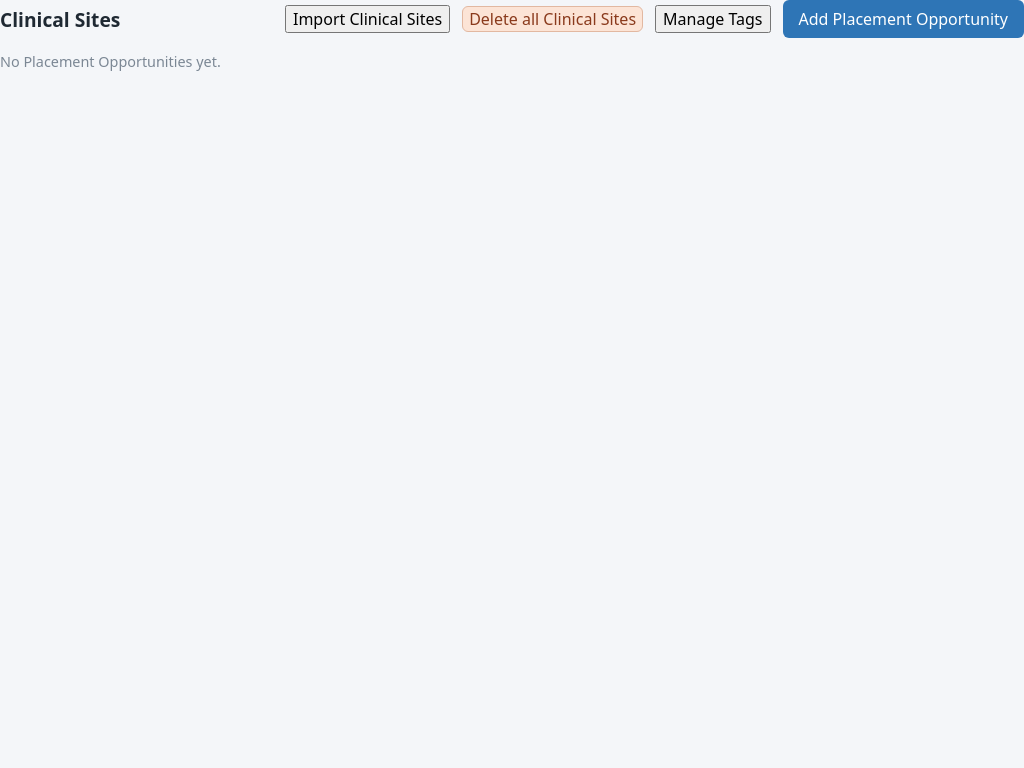
Clinical Sites import dialog › shows row-level validation messages and blocks import
This screenshot has width=1024, height=768.
Click the button "Import Clinical Sites". click: (368, 19)
box: [285,5,450,33]
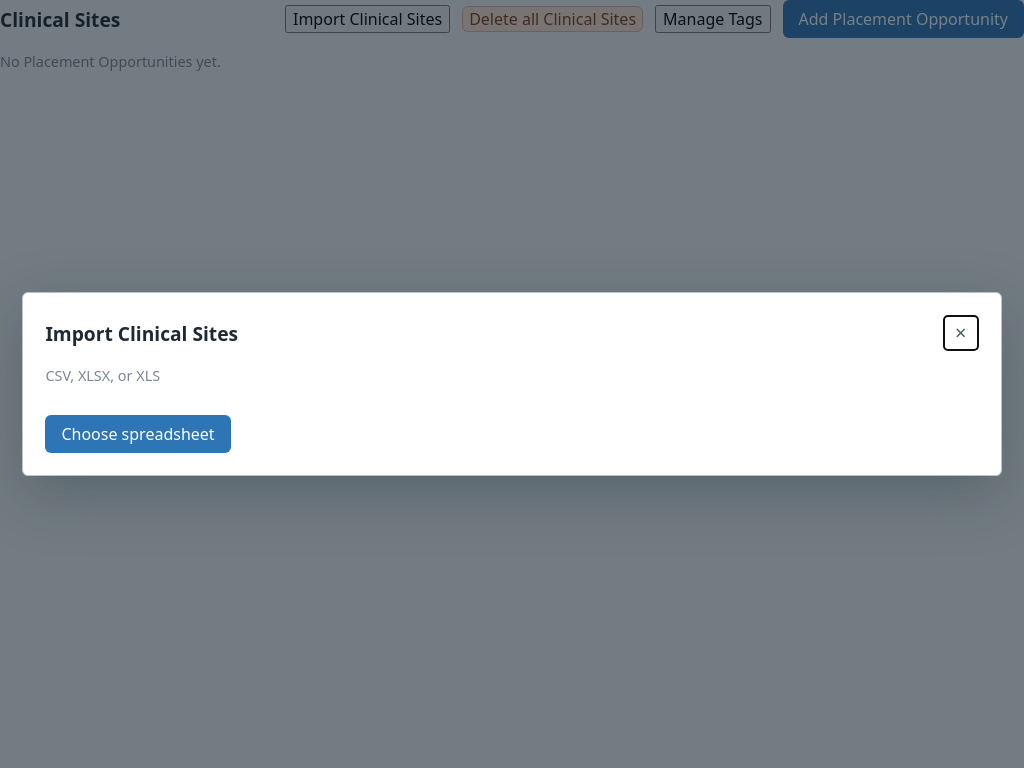
Click the button "Choose spreadsheet". click: (138, 434)
box: [45,415,231,453]
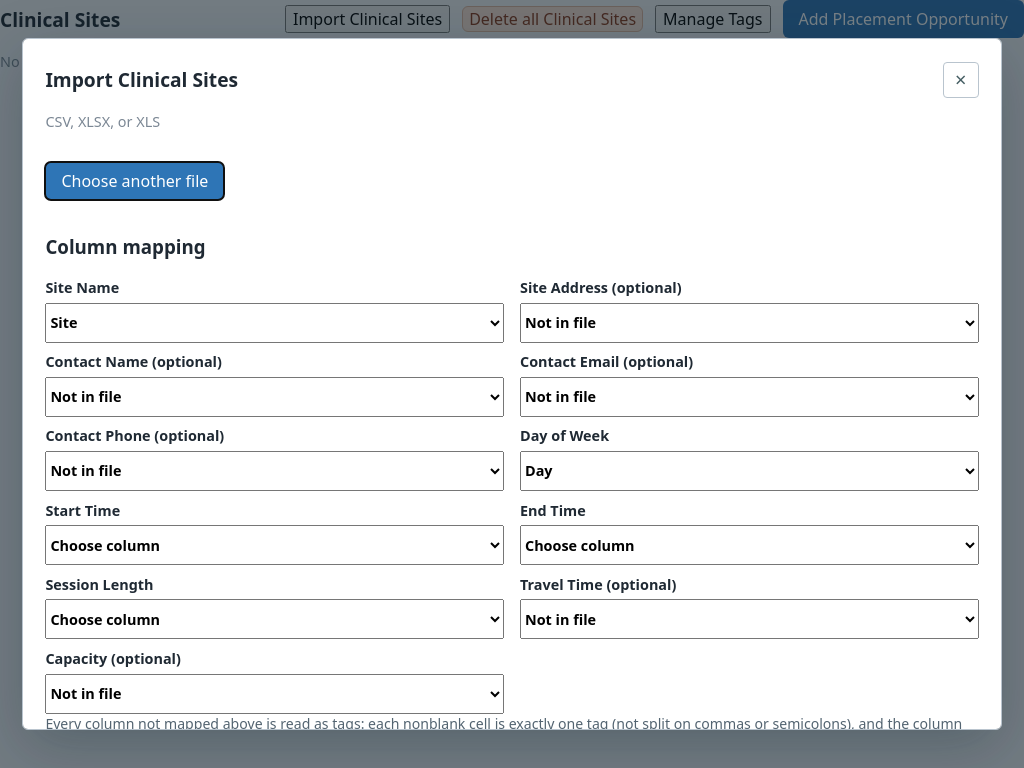
Check: the heading "Column mapping" is shown, box [45,234,206,259]
Select "Begin" in the dropdown labelled "Start Time". click: (275, 545)
box: [45,525,504,565]
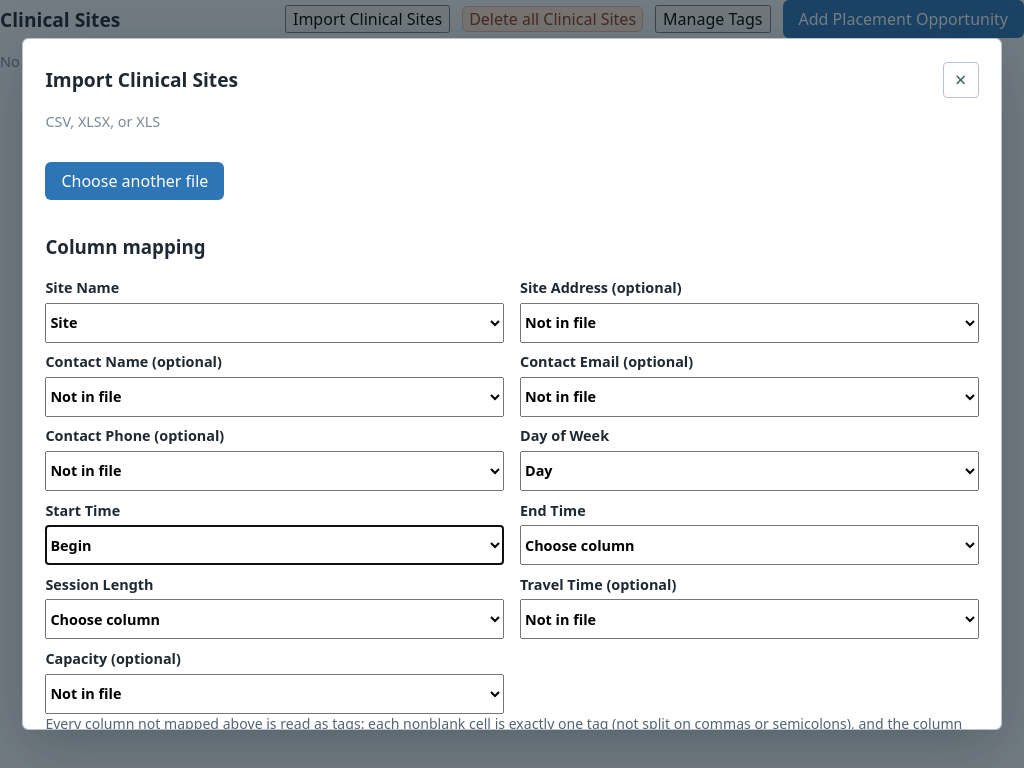
Select "Finish" in the dropdown labelled "End Time". click: (749, 545)
box: [520,525,979,565]
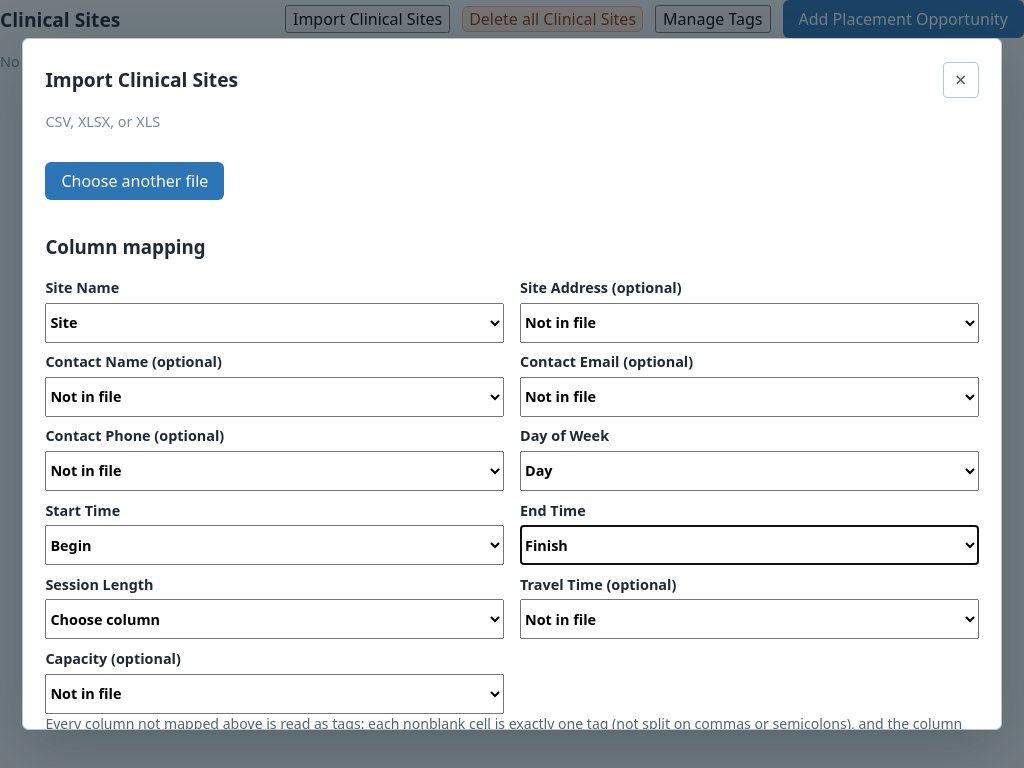
Select "Mins" in the dropdown labelled "Session Length". click: (275, 619)
box: [45,599,504,639]
(page scrolled)
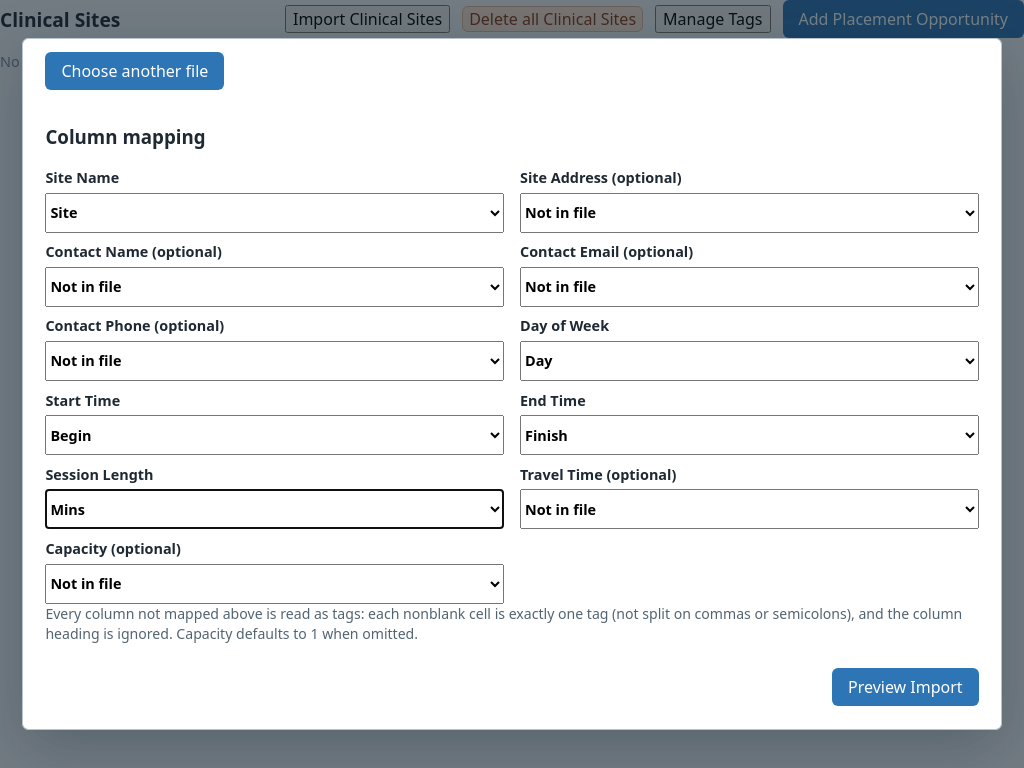
Click the button "Preview Import". click: (905, 687)
box: [832,668,979,706]
(page scrolled)
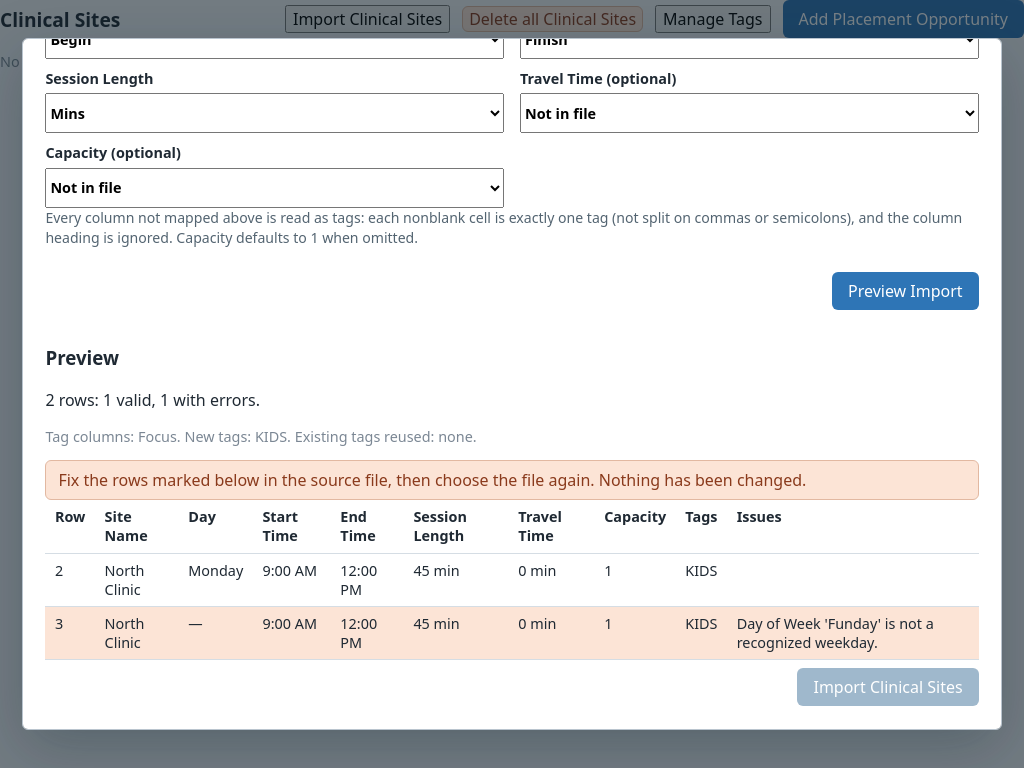
Check: the text "Day of Week 'Funday' is not a recognized weekday." is shown, box [737,614,934,652]
Check: the text "2 rows: 1 valid, 1 with errors." is shown, box [45,389,260,411]
Check: the button "Import Clinical Sites" is disabled, box [798,668,979,706]
